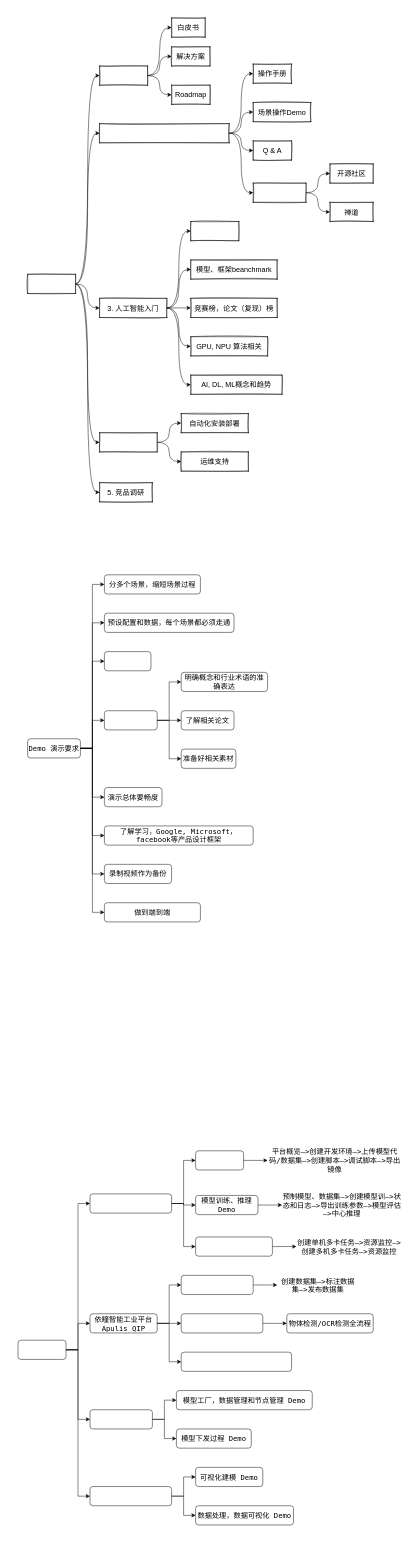
The diagram is 420 pixels wide and 1543 high, and some of its shapes have lost their labels. Here are the shapes that lost their labels. From the top down, the box of each, then its label:
(99, 66, 148, 85): 1. 文档介绍
(99, 123, 229, 143): 2. 产品Demo演示
(253, 183, 306, 202): 社区问答维护
(190, 221, 239, 241): 模型开发案例
(27, 274, 76, 294): 市场落地方案
(99, 432, 157, 452): 4. 自动化运维
(104, 651, 151, 671): 模型性能指标
(104, 710, 157, 730): 准备讲述脚本
(195, 1150, 244, 1170): 模型开发Demo
(90, 1193, 172, 1213): 依瞳人工智能平台 Apulis AI Platform
(195, 1236, 272, 1256): 异构资源和分布式任务Demo
(181, 1275, 253, 1295): 数据集管理和标注 Demo
(181, 1313, 263, 1333): 4种场景之2的走通的 Demo
(18, 1340, 66, 1359): 演示 Demo 规划
(181, 1352, 292, 1371): 服务统计和告警 Demo
(90, 1409, 152, 1429): 依瞳云边协同平台 Apulis CET
(90, 1486, 172, 1506): 依瞳大数据机器学习平台 Apulis DataEyes
